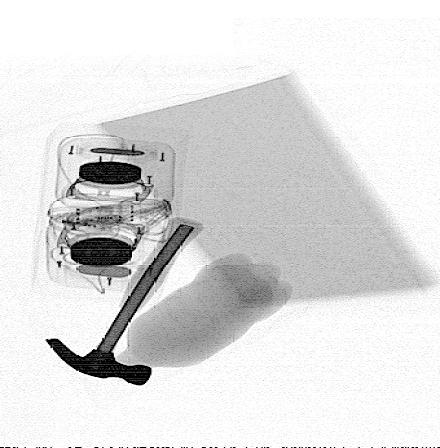Hammer: (43, 215, 203, 387)
